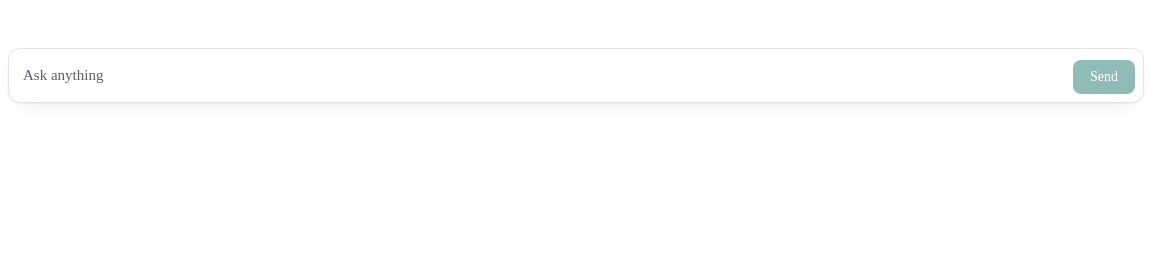
Test case: streaming chat › renders text as it streams, then settles with actions
Later steps or results of the test are not shown.
Type "Hello" into the text box named "Message" at (541, 75), box top-left (17, 57), bottom-right (1065, 94)
Then press Enter
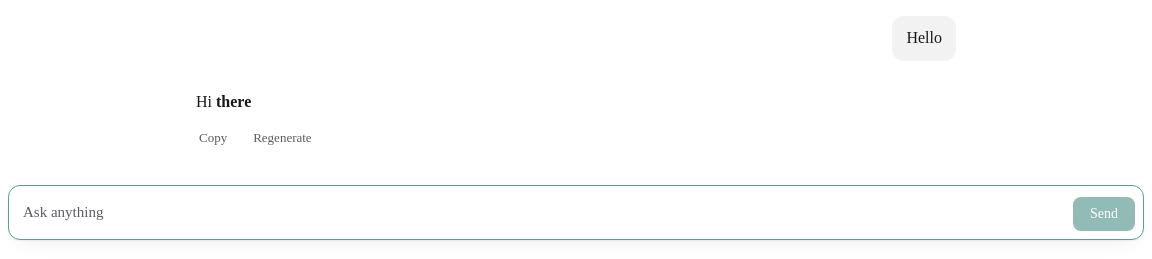
Expected: the element named "You" reads "Hello", top-left (906, 29), bottom-right (942, 46)
Expected: the element named "Assistant" shows "Hi", top-left (196, 93), bottom-right (216, 110)
Expected: the button "Regenerate" is shown, top-left (242, 123), bottom-right (323, 153)
